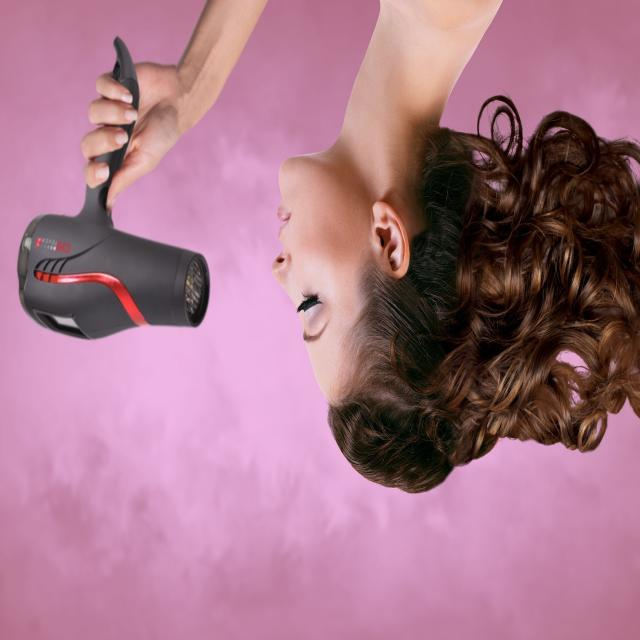dryer: (15, 33, 211, 344)
